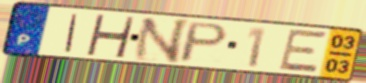1: (246, 26, 269, 69)
E: (277, 28, 331, 74)
H: (83, 13, 137, 59)
I: (62, 12, 81, 54)
N: (130, 17, 193, 65)
P: (176, 21, 231, 64)
